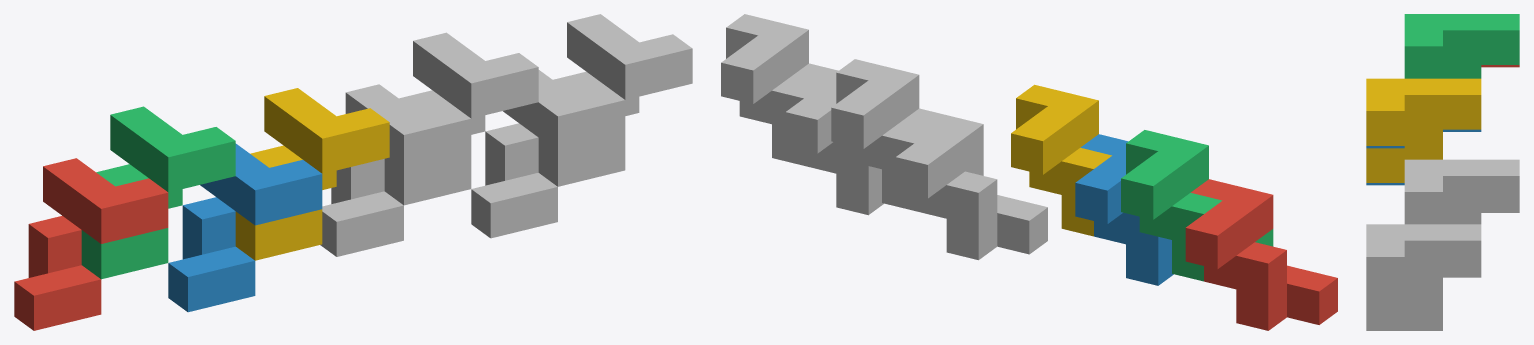
Rendered from tiling.obj.
3 renders of one model, left to right at view 1: azimuth 30°, elevation 25°; view 2: azimuth 150°, elevation 25°; view 3: azimuth 270°, elevation 25°, orthographic. The views are drawn at different scales.
Visible parts, largest first — view 1: copy_1_domain_1, copy_1_domain_2, copy_1_domain_6, copy_1_domain_5, copy_1_domain_4, copy_1_domain_3, copy_1_domain_7, copy_1_domain_8; view 2: copy_1_domain_5, copy_1_domain_1, copy_1_domain_7, copy_1_domain_3, copy_1_domain_4, copy_1_domain_8, copy_1_domain_6, copy_1_domain_2; view 3: copy_1_domain_8, copy_1_domain_4, copy_1_domain_7, copy_1_domain_3, copy_1_domain_6, copy_1_domain_2.
Boxes of the visible parts, box(x1,y1,x2,y2) form: copy_1_domain_1: box(14, 158, 168, 330); copy_1_domain_2: box(168, 143, 322, 312); copy_1_domain_6: box(471, 70, 625, 238); copy_1_domain_5: box(320, 84, 471, 256); copy_1_domain_4: box(235, 88, 389, 260); copy_1_domain_3: box(81, 106, 235, 279); copy_1_domain_7: box(384, 32, 538, 205); copy_1_domain_8: box(538, 14, 692, 186); copy_1_domain_5: box(895, 108, 1047, 260); copy_1_domain_1: box(1185, 179, 1337, 330); copy_1_domain_7: box(831, 59, 983, 210); copy_1_domain_3: box(1121, 130, 1273, 281); copy_1_domain_4: box(1011, 84, 1111, 236); copy_1_domain_8: box(721, 14, 822, 165); copy_1_domain_6: box(785, 63, 883, 215); copy_1_domain_2: box(1075, 134, 1173, 285); copy_1_domain_8: box(1366, 224, 1481, 328); copy_1_domain_4: box(1366, 78, 1481, 182); copy_1_domain_7: box(1404, 159, 1519, 224); copy_1_domain_3: box(1404, 14, 1519, 78); copy_1_domain_6: box(1366, 275, 1481, 330); copy_1_domain_2: box(1366, 129, 1481, 185).
Size of the model in its own units: 19 by 4 by 4.
